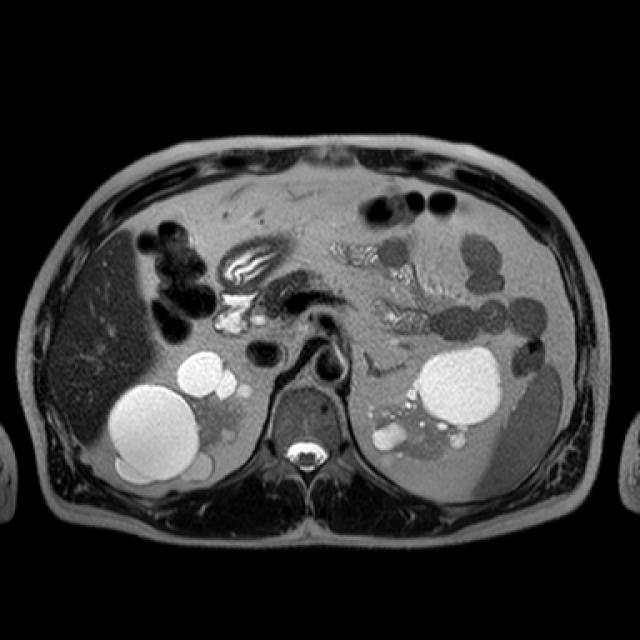sag: (107, 349, 257, 487)
sol: (364, 343, 504, 463)
